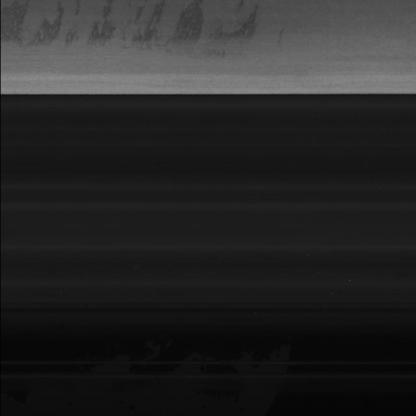water_spot: (0, 0, 275, 62)
